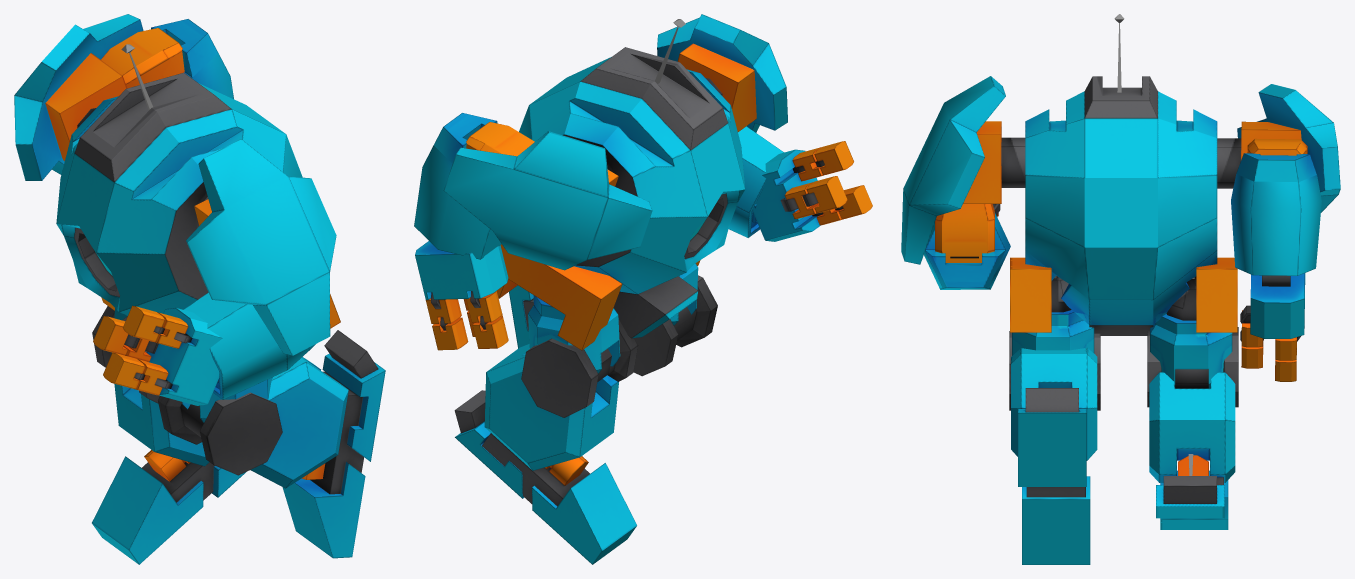
File: Walk5.obj
3 renders of one model, left to right at view 1: azimuth 30°, elevation 25°; view 2: azimuth 150°, elevation 25°; view 3: azimuth 270°, elevation 25°, orthographic. The views are drawn at different scales.
Visible parts, largest first — view 1: Plane001, Object006, Object013, Object002, Object014, Object008, Object011, Object007, Object010, Object003, Object012; view 2: Plane001, Object002, Object010, Object011, Object006, Object008, Object004, Object003, Object013, Object007, Object009, Object014; view 3: Plane001, Object006, Object014, Object003, Object010, Object002, Object004, Object013, Object009, Object011, Object007, Object012 (+2 smaller).
Boxes of the visible parts, x1=… form: Plane001: x1=56, y1=72, x2=340, y2=352; Object006: x1=186, y1=139, x2=336, y2=355; Object013: x1=158, y1=357, x2=348, y2=488; Object002: x1=14, y1=14, x2=184, y2=180; Object014: x1=282, y1=330, x2=385, y2=558; Object008: x1=93, y1=305, x2=222, y2=405; Object011: x1=92, y1=450, x2=245, y2=564; Object007: x1=183, y1=292, x2=315, y2=399; Object010: x1=92, y1=306, x2=209, y2=466; Object003: x1=151, y1=19, x2=233, y2=98; Object012: x1=182, y1=377, x2=272, y2=422; Plane001: x1=497, y1=47, x2=745, y2=350; Object002: x1=443, y1=122, x2=652, y2=270; Object010: x1=484, y1=320, x2=638, y2=470; Object011: x1=454, y1=390, x2=636, y2=564; Object006: x1=657, y1=14, x2=787, y2=132; Object008: x1=752, y1=141, x2=872, y2=241; Object004: x1=415, y1=241, x2=508, y2=350; Object003: x1=414, y1=113, x2=501, y2=259; Object013: x1=633, y1=275, x2=717, y2=376; Object007: x1=728, y1=126, x2=783, y2=237; Object009: x1=528, y1=295, x2=620, y2=373; Object014: x1=509, y1=285, x2=533, y2=348; Plane001: x1=1010, y1=76, x2=1237, y2=335; Object006: x1=901, y1=76, x2=1005, y2=264; Object014: x1=1018, y1=388, x2=1090, y2=564; Object003: x1=1231, y1=153, x2=1321, y2=275; Object010: x1=1147, y1=327, x2=1238, y2=482; Object002: x1=1237, y1=84, x2=1340, y2=212; Object004: x1=1240, y1=273, x2=1305, y2=381; Object013: x1=1009, y1=331, x2=1100, y2=460; Object009: x1=1150, y1=276, x2=1232, y2=388; Object011: x1=1156, y1=455, x2=1228, y2=529; Object007: x1=924, y1=212, x2=1010, y2=289; Object012: x1=1012, y1=276, x2=1094, y2=355.
Size of the model in its own units: 137 by 228 by 182.
